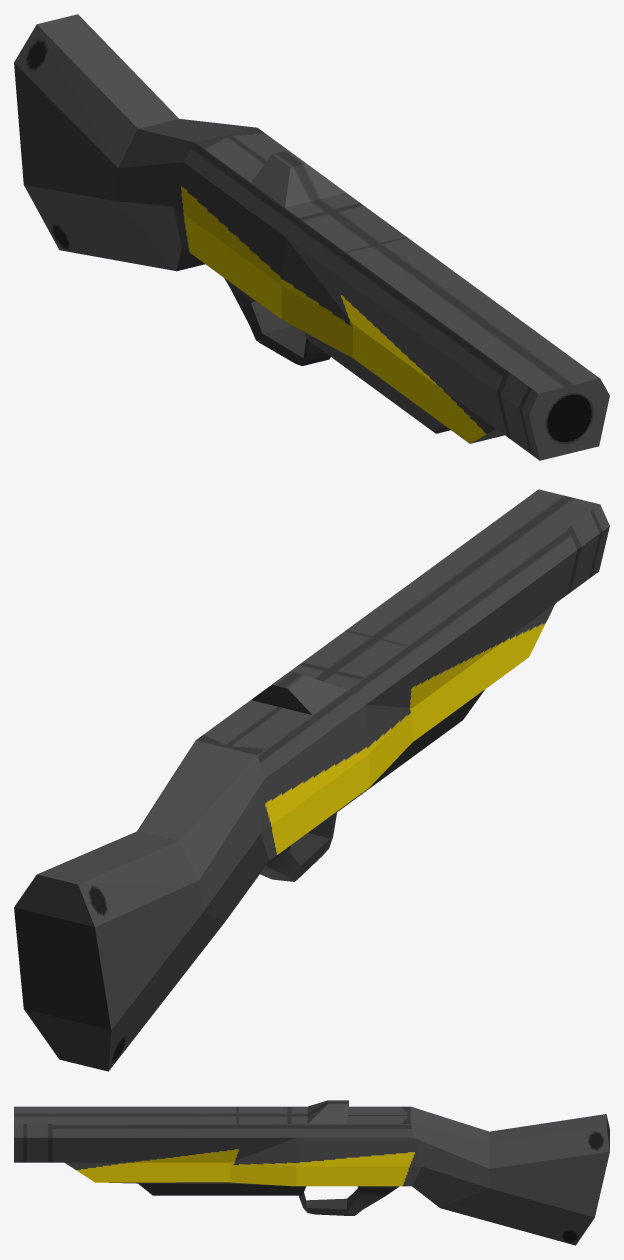
File: ShotGun.FBX
3 renders of one model, top to bottom at view 1: azimuth 30°, elevation 25°; view 2: azimuth 150°, elevation 25°; view 3: azimuth 270°, elevation 25°, orthographic. The views are drawn at different scales.
Visible parts, largest first — view 1: Box001; view 2: Box001; view 3: Box001.
Boxes of the visible parts, left/top/right/bottom form: Box001: left=14, top=14, right=609, bottom=460; Box001: left=14, top=489, right=609, bottom=1071; Box001: left=14, top=1100, right=609, bottom=1245.
Size of the model in its own units: 2.13 by 5.46 by 21.66.
Materials: 1 (1 with a texture image).
